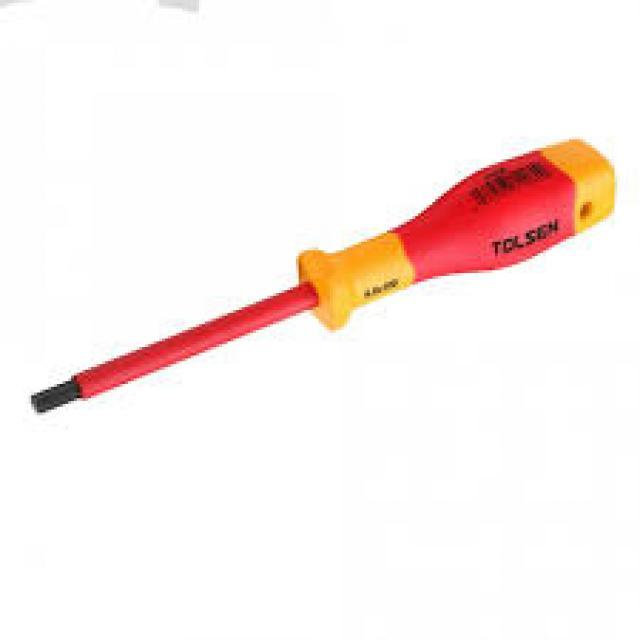screwdriver: (30, 138, 619, 414)
